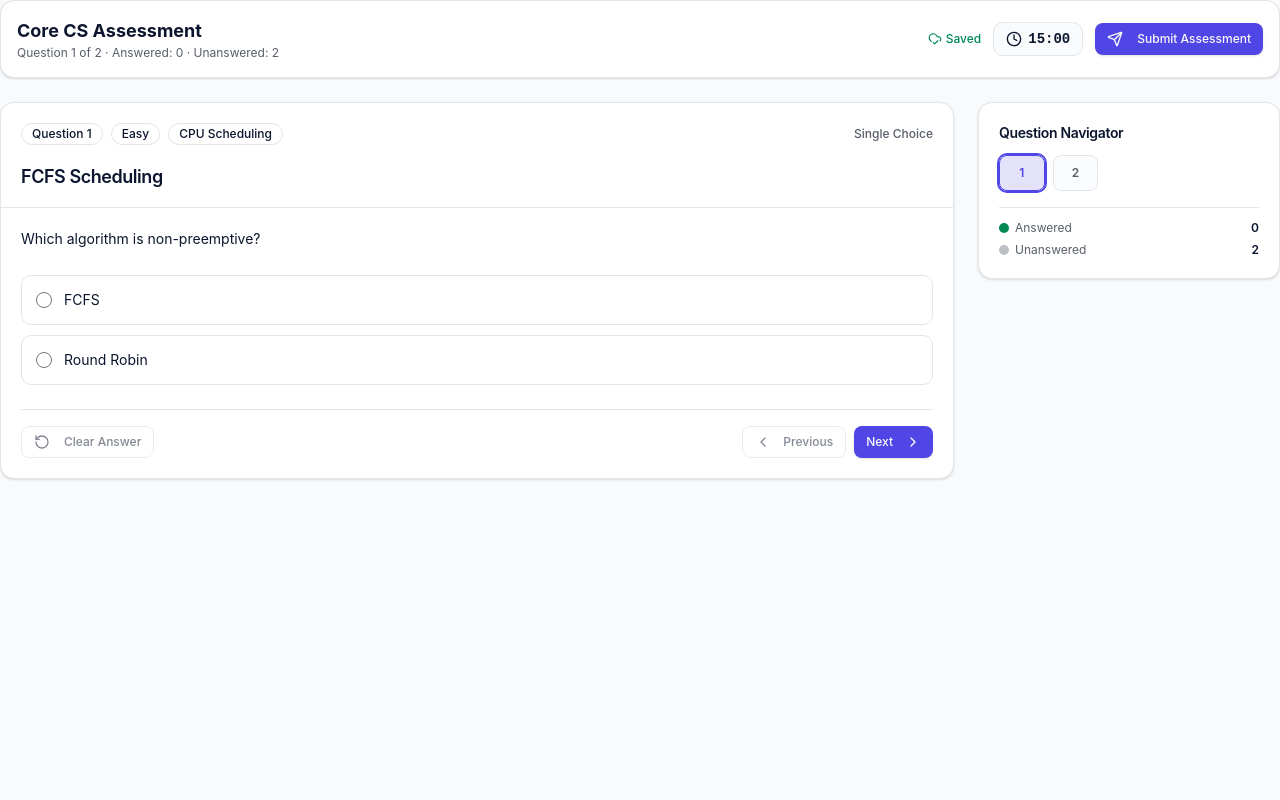
Test: Phase 3: Assessment List, Runner, Timer, Autosave & History › renders AssessmentRunner with countdown timer, navigator, autosave, and submission dialog
Expected: the heading "Core CS Assessment" is shown, x1=17 y1=20 x2=202 y2=41
Expected: the heading "FCFS Scheduling" is shown, x1=21 y1=166 x2=163 y2=187
Select option A and verify autosave
Click the radio button labelled "FCFS": (44, 300) x1=36 y1=292 x2=52 y2=308
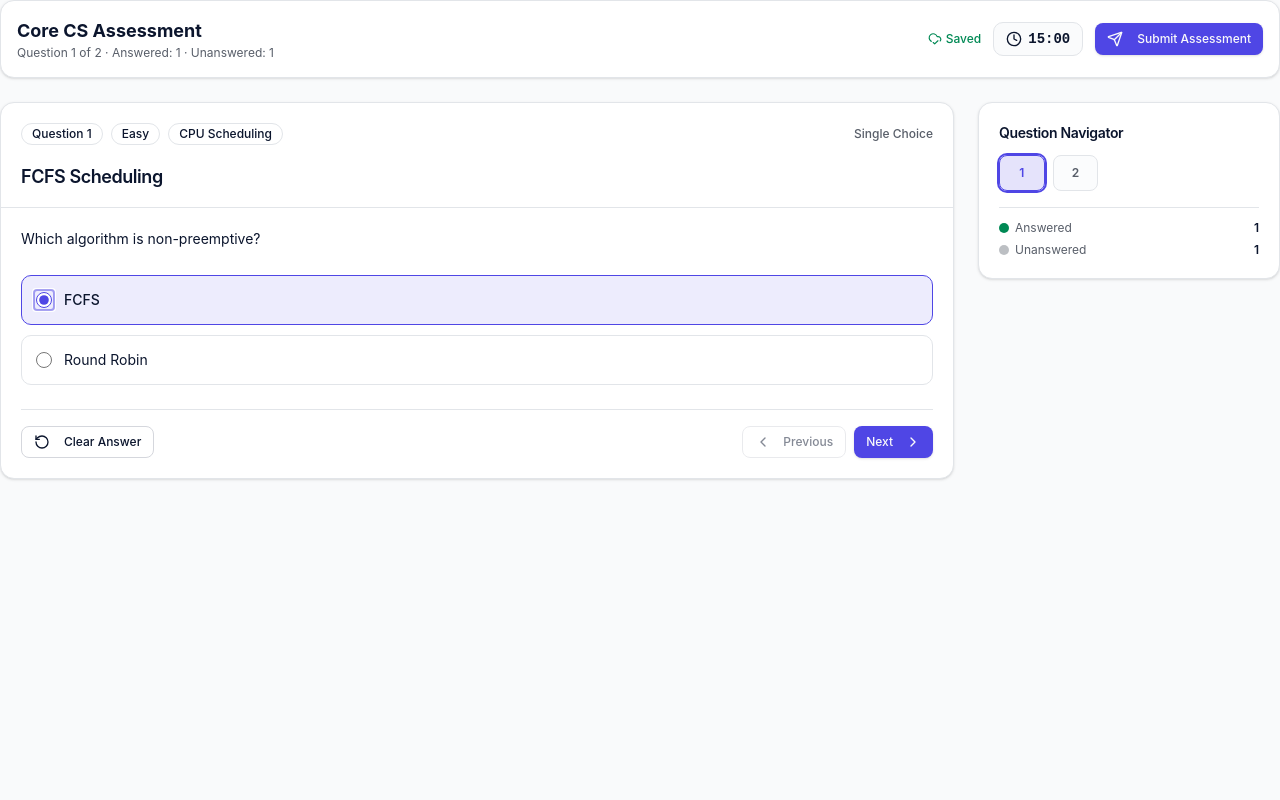
Navigate to Question 2 via Question Navigator
Click the button named "go to question 2": (1075, 173) x1=1053 y1=155 x2=1098 y2=191
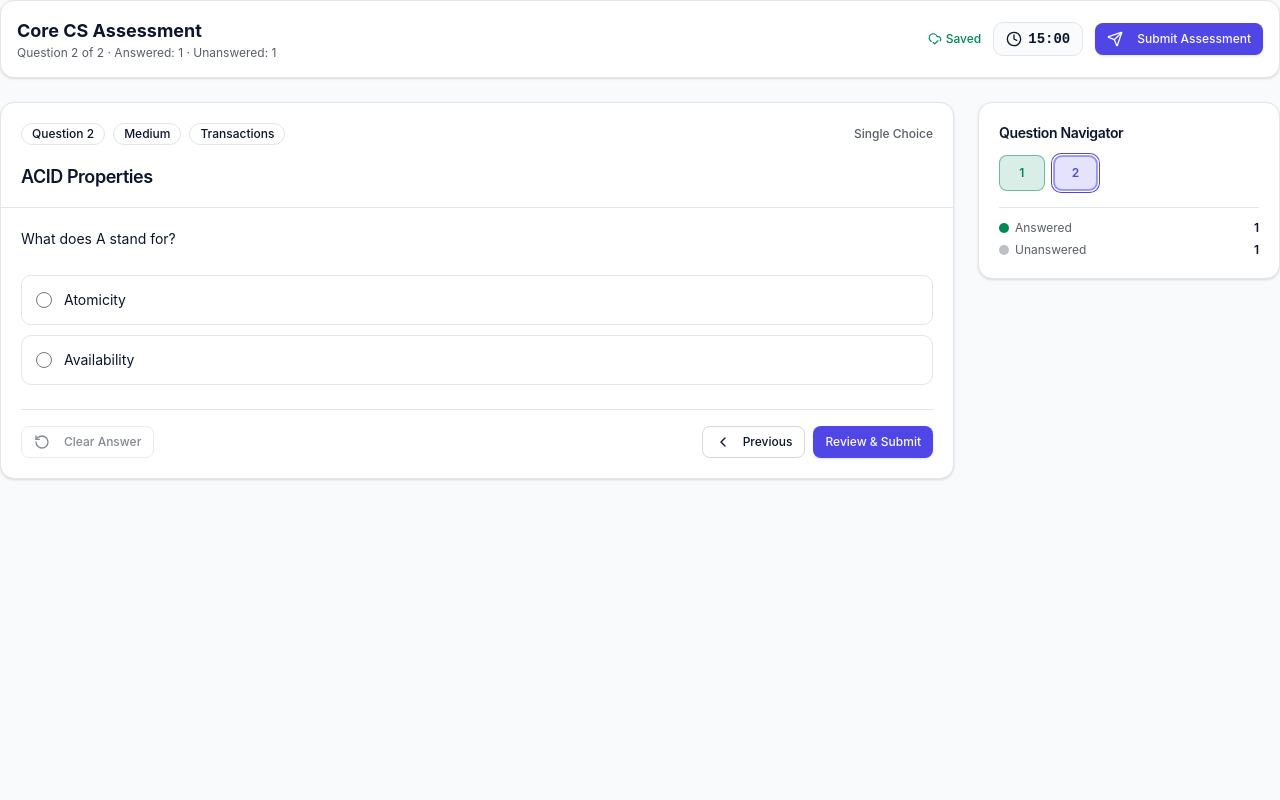
Result: the heading "ACID Properties" is shown at x1=21 y1=166 x2=153 y2=187
Open Submission Confirmation modal
Click the button "Submit Assessment": (1179, 39) x1=1095 y1=23 x2=1263 y2=55
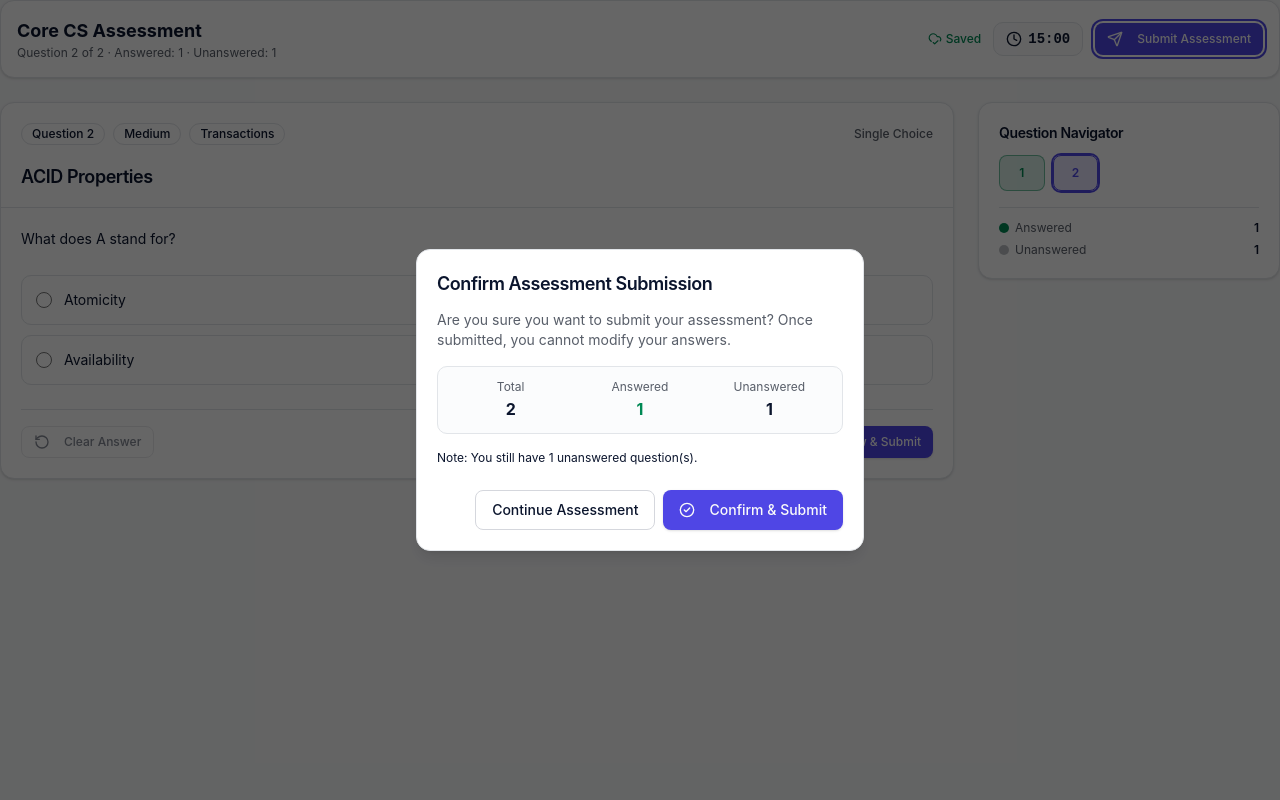
Result: the heading "Confirm Assessment Submission" is shown at x1=437 y1=273 x2=712 y2=294
